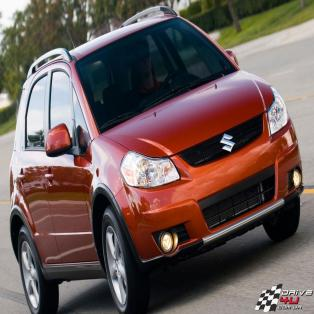Auto: (7, 2, 306, 313)
